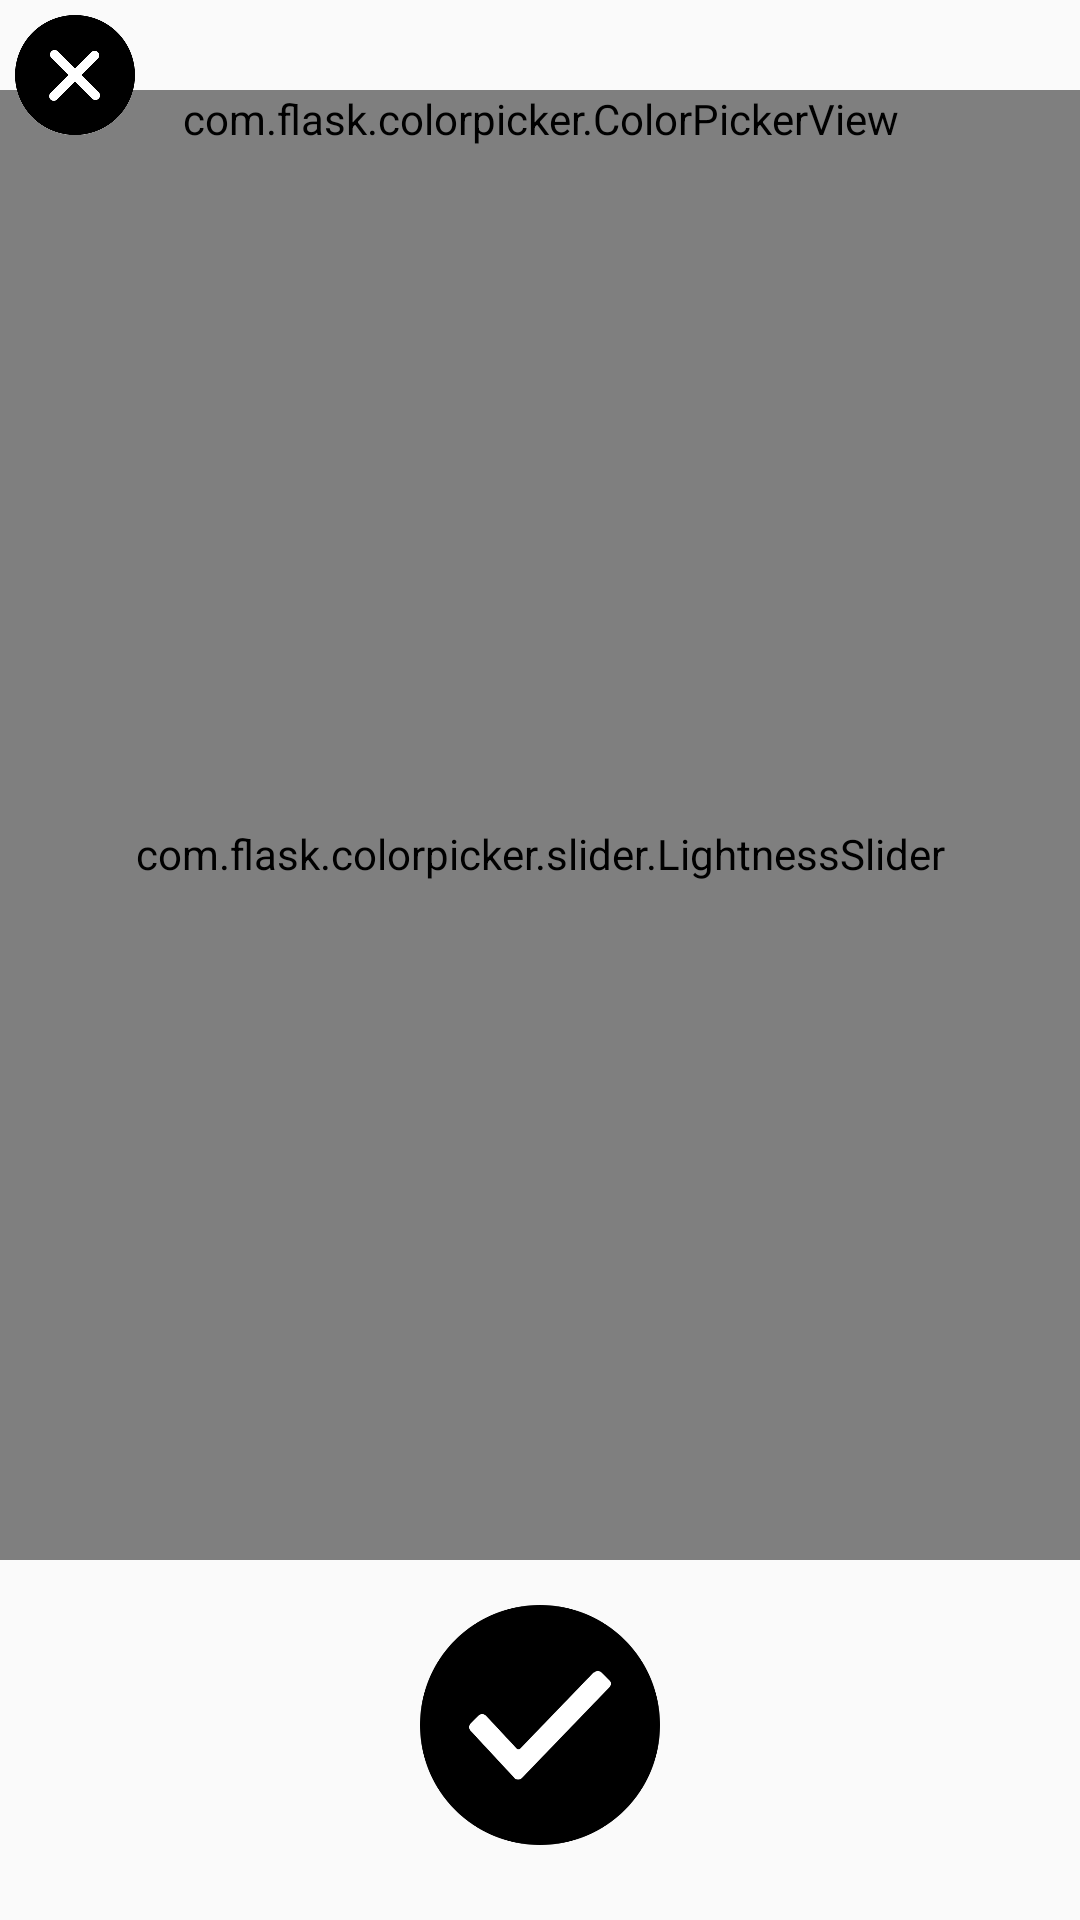

Where to tap for icons on this 1080px x 1920px app screen, as (x,y):
checked: (540,1725)
